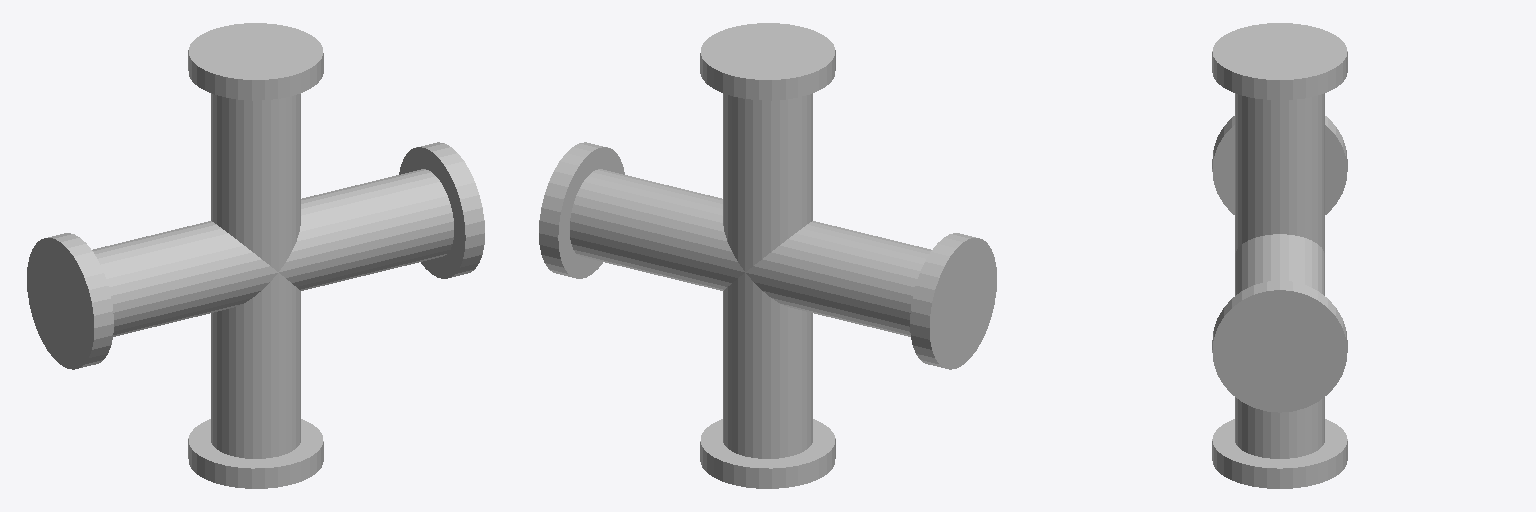
Rendered from pipe_x.obj.
3 renders of one model, left to right at view 1: azimuth 30°, elevation 25°; view 2: azimuth 150°, elevation 25°; view 3: azimuth 270°, elevation 25°, orthographic.
Parts seen in each view (by area): view 1: Cylinder; view 2: Cylinder; view 3: Cylinder.
Part boxes in pixels (left/top/right/bottom): Cylinder: left=27, top=23, right=484, bottom=488; Cylinder: left=539, top=23, right=996, bottom=488; Cylinder: left=1212, top=23, right=1347, bottom=488.
Bounding box in the file's own units: 2 × 2 × 0.6.